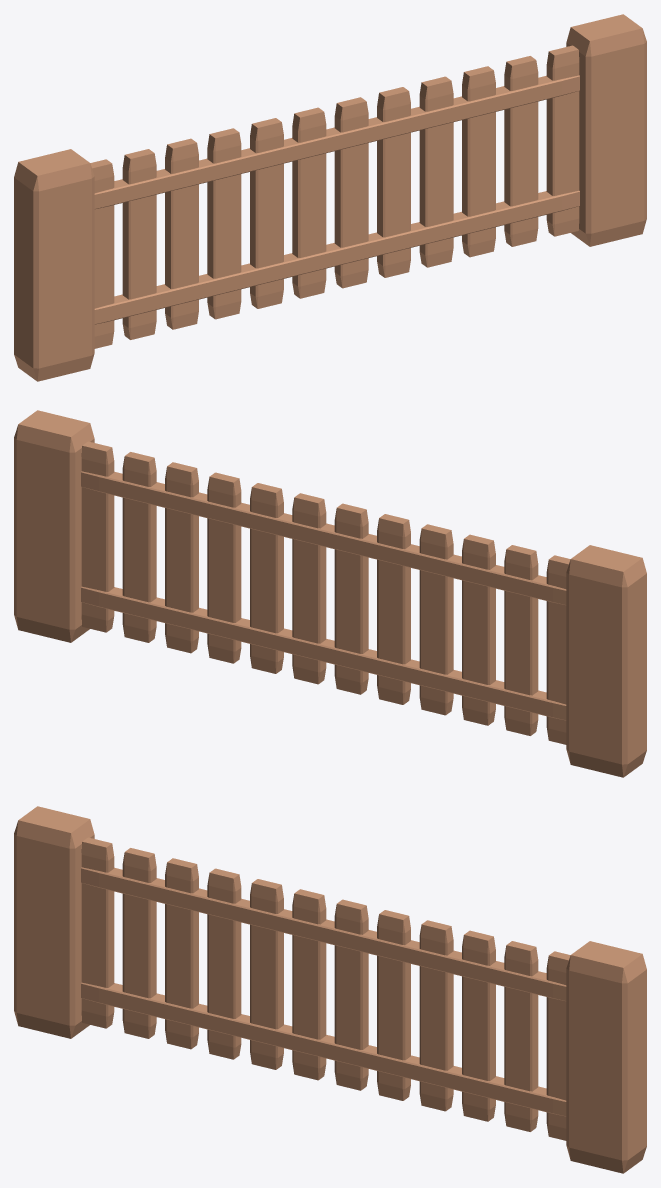
Rendered from b19_double_crossbuck_driveway_gate.glb.
The picture shows the model from 3 angles, top to bottom: view 1: azimuth 30°, elevation 25°; view 2: azimuth 150°, elevation 25°; view 3: azimuth 330°, elevation 25°; orthographic projection.
Parts seen in each view (by area): view 1: b19_double_crossbuck_driveway_gate; view 2: b19_double_crossbuck_driveway_gate; view 3: b19_double_crossbuck_driveway_gate.
Boxes of the visible parts, x1,y1,x2,y2 form: b19_double_crossbuck_driveway_gate: (14, 14, 646, 381); b19_double_crossbuck_driveway_gate: (14, 410, 646, 777); b19_double_crossbuck_driveway_gate: (14, 806, 646, 1173).
Bounding box in the file's own units: 4.44 × 1.42 × 0.28.
